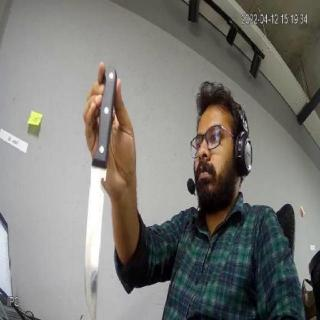knife: (81, 121, 107, 319)
